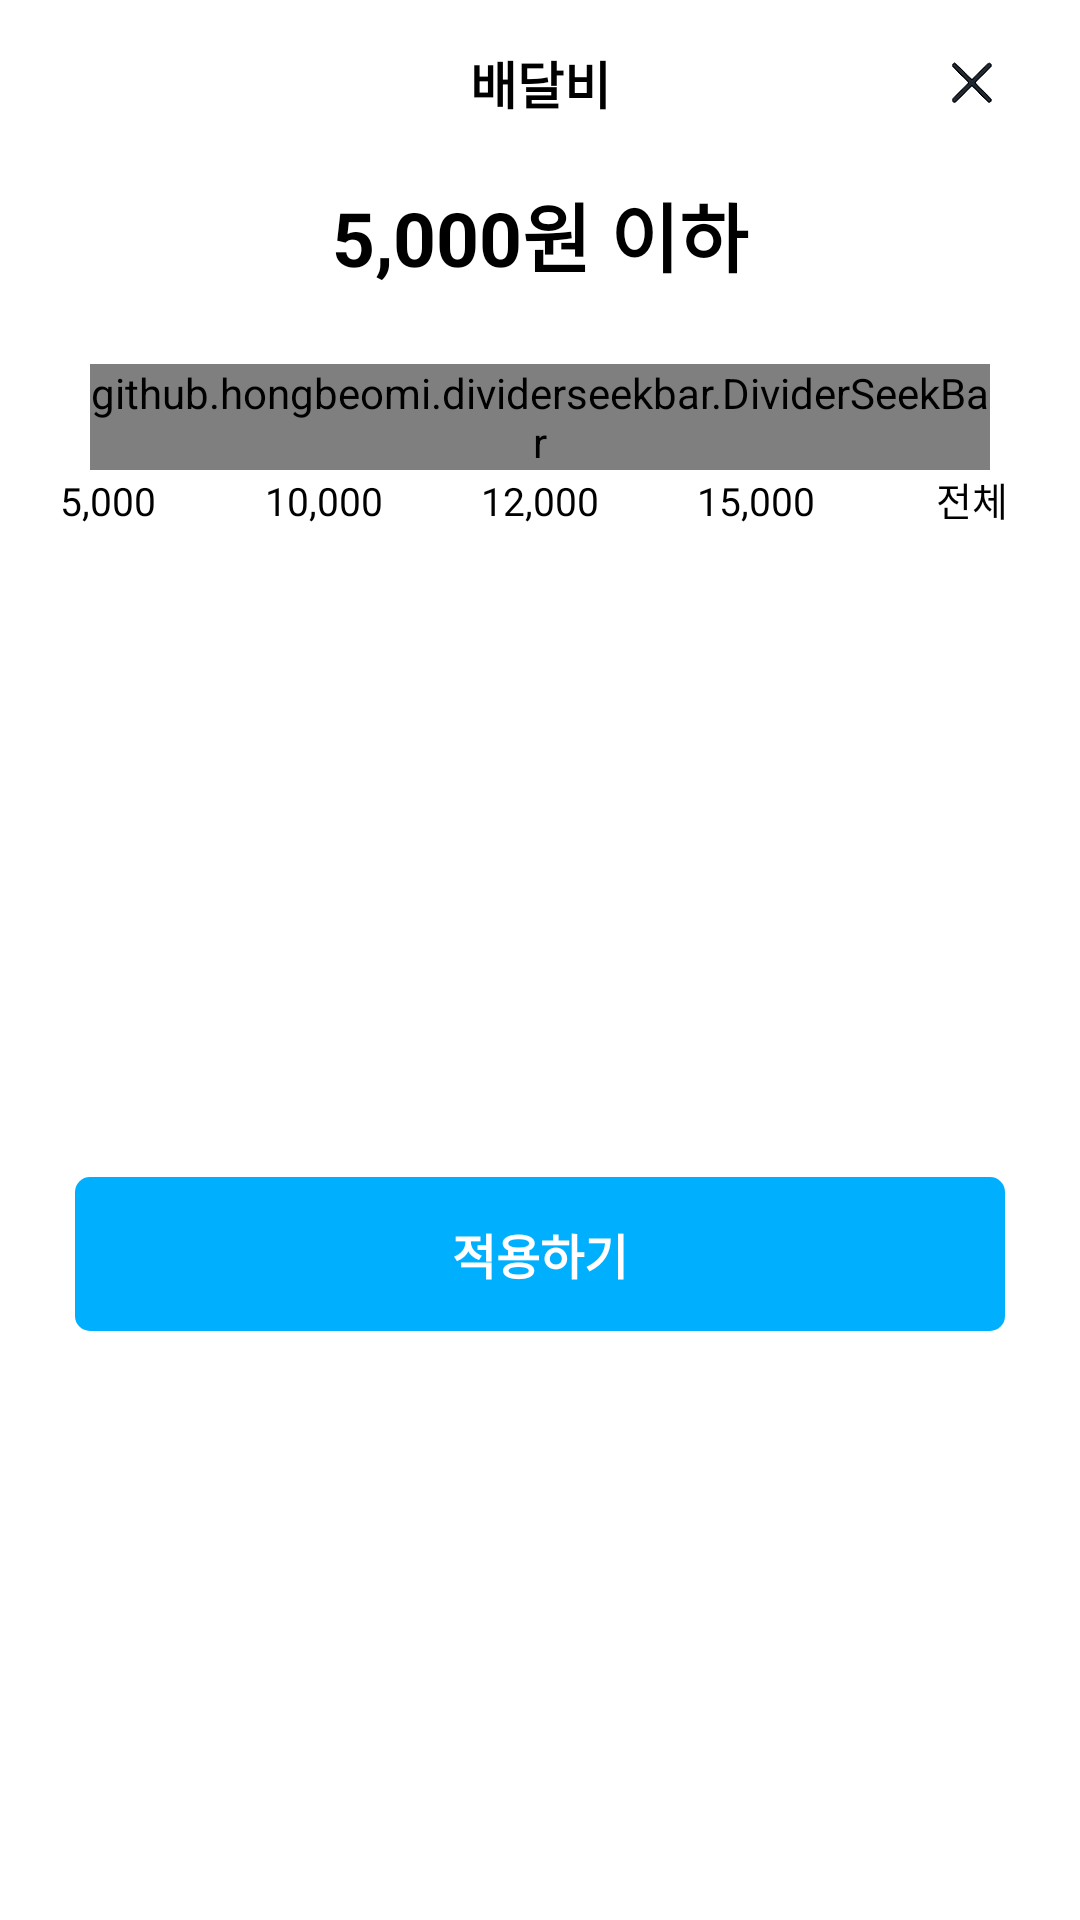

Screen size 1080px×1920px. Icon name, then its box in pixels as bbox(x1, y1, x2, y2):
login quit: bbox(952, 62, 992, 103)
